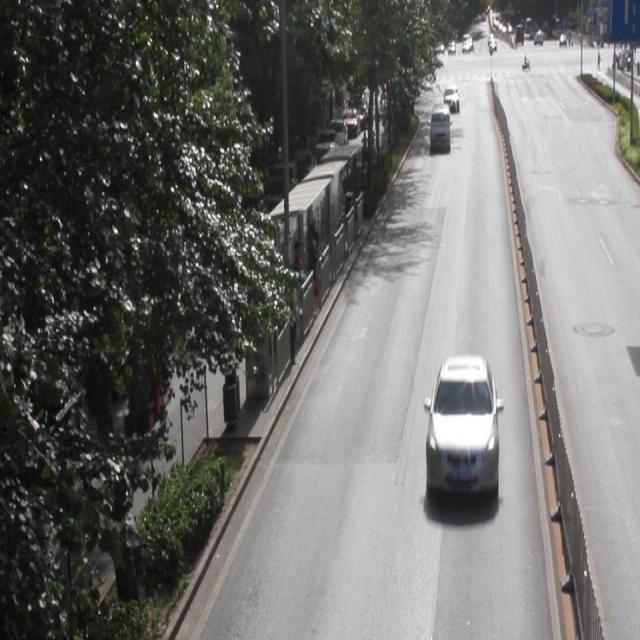car: (422, 355, 498, 492)
truck: (428, 102, 449, 148)
